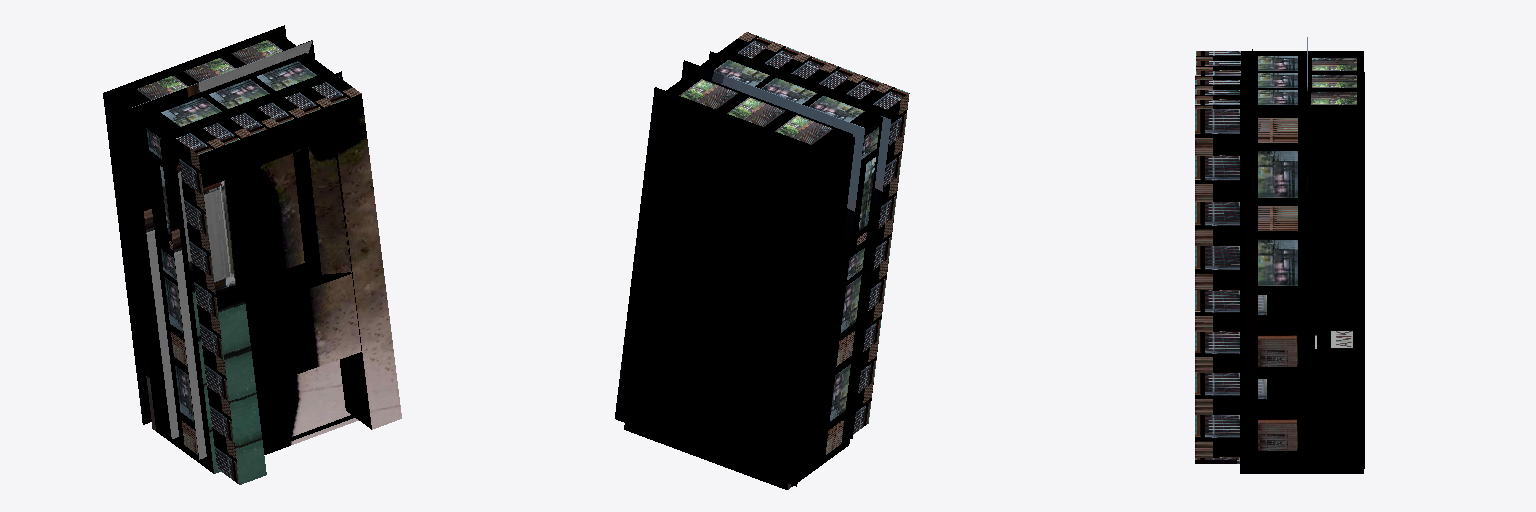
3 views of the same model, side by side, from view 1: azimuth 30°, elevation 25°; view 2: azimuth 150°, elevation 25°; view 3: azimuth 270°, elevation 25° (orthographic).
Parts seen in each view (by area): view 1: polygon.876; view 2: polygon.876; view 3: polygon.876.
Boxes of the visible parts, x1,y1,x2,y2 form: polygon.876: [103, 25, 401, 484]; polygon.876: [615, 32, 909, 489]; polygon.876: [1195, 37, 1364, 473].
Size of the model in its own units: 16.89 by 27.35 by 11.13.
1 materials, 1 textured.